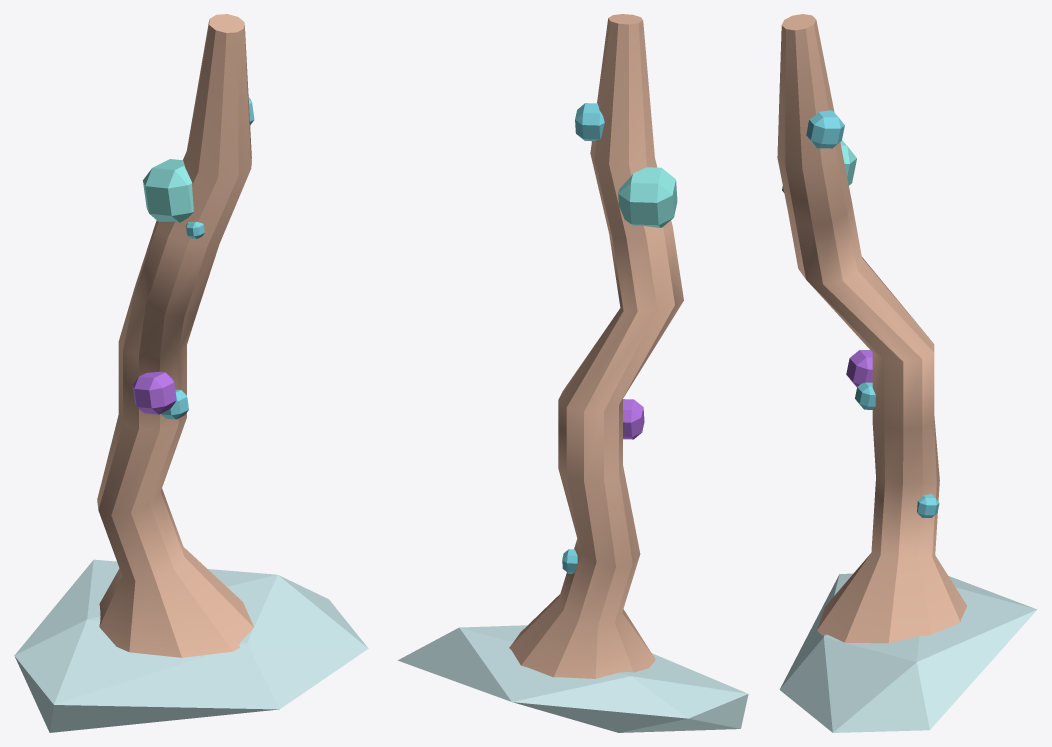
Rendered from LargeStickThing3.fbx.
3 views of the same model, side by side, from view 1: azimuth 30°, elevation 25°; view 2: azimuth 150°, elevation 25°; view 3: azimuth 270°, elevation 25° (orthographic). The views are drawn at different scales.
Visible parts, largest first — view 1: pasted__pasted__pasted__pPlatonic1; view 2: pasted__pasted__pasted__pPlatonic1; view 3: pasted__pasted__pasted__pPlatonic1.
Boxes of the visible parts, <box> form: pasted__pasted__pasted__pPlatonic1: <box>14,14,368,732</box>; pasted__pasted__pasted__pPlatonic1: <box>397,14,748,732</box>; pasted__pasted__pasted__pPlatonic1: <box>777,14,1037,732</box>.
Bounding box in the file's own units: 1.57 × 3.27 × 1.16.
